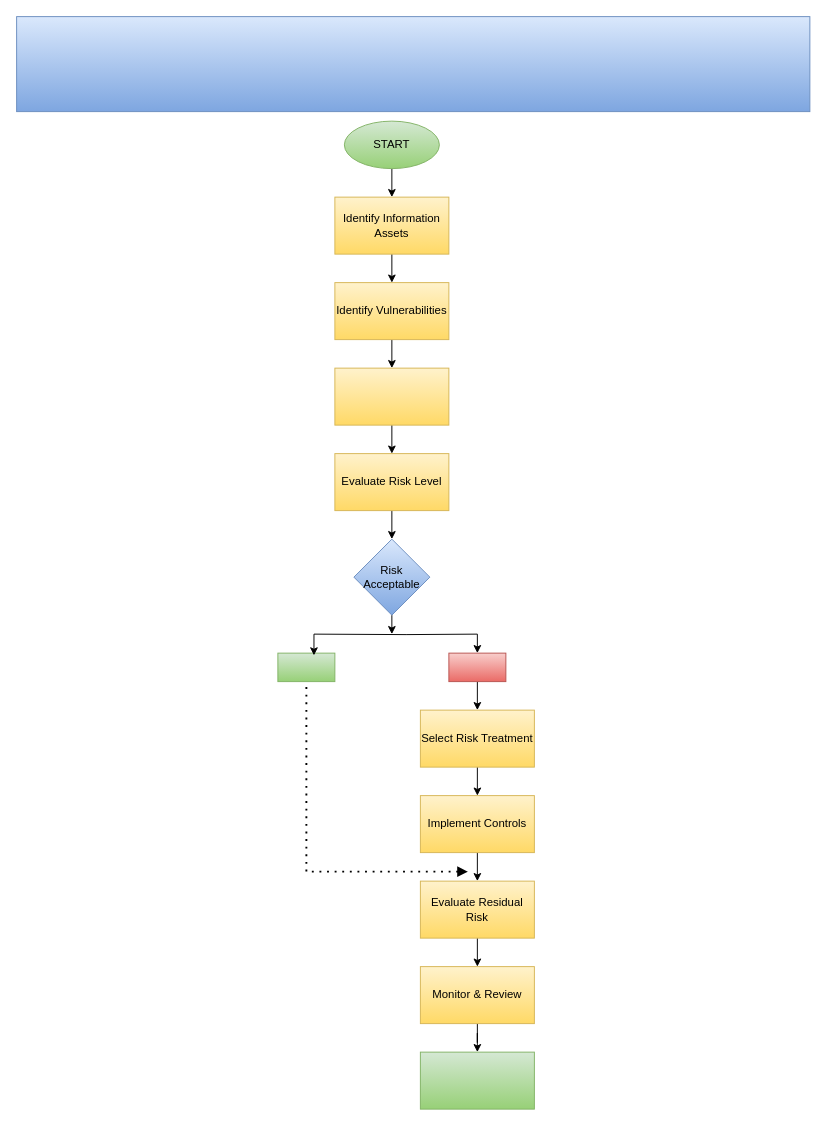
Some shapes in this 827 by 1126 pixel diagram are drawn without their labels. The shapes that lost their labels are listed below. From the top down, each one's centre as x and y in pixels, then its label:
[413,64]: MAYEKAR TECHNOLOGIES PVT. LTD.
[391,396]: Performance Risk Analysis (Likelihood + Impact)
[306,667]: YES
[477,667]: NO
[476,1080]: END
